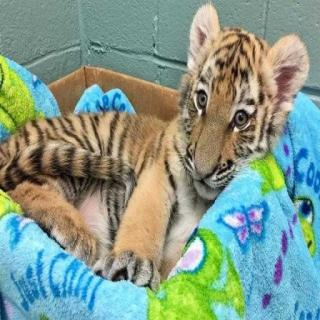Tiger: (23, 2, 309, 254)
